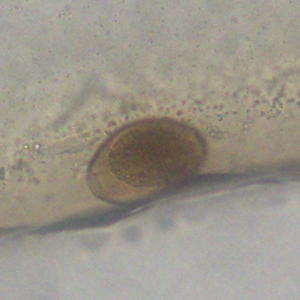Fasciola_hepatica_egg: (83, 115, 209, 207)
